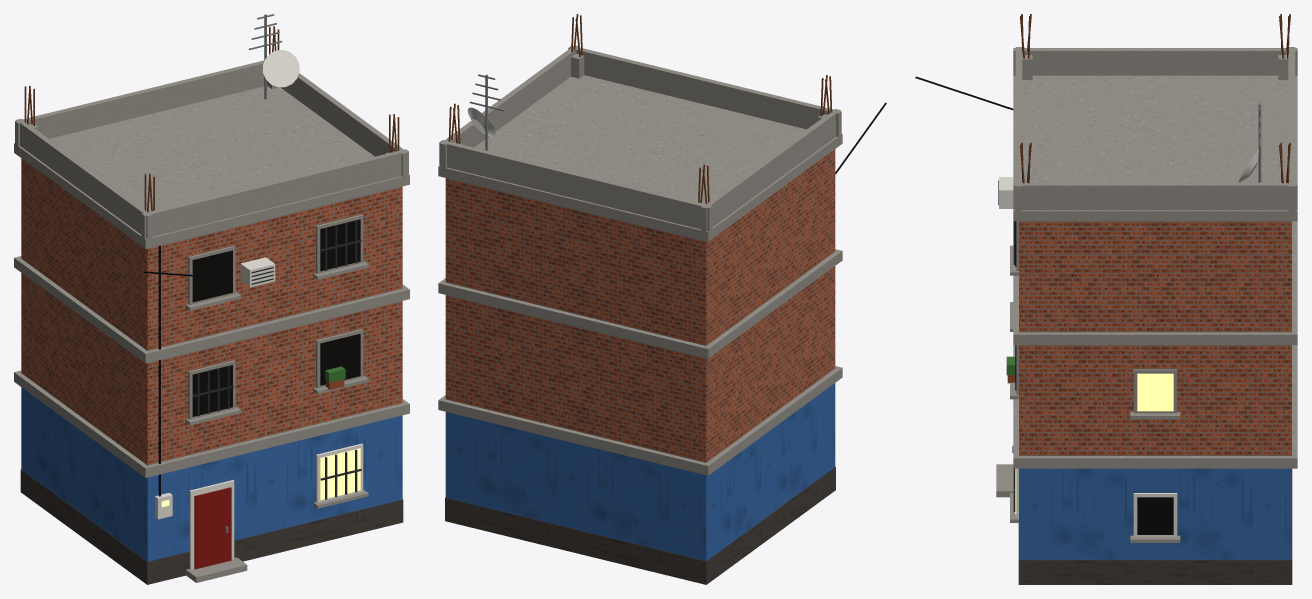
File: favela-azul.glb
The picture shows the model from 3 angles, left to right: view 1: azimuth 30°, elevation 25°; view 2: azimuth 150°, elevation 25°; view 3: azimuth 270°, elevation 25°; orthographic projection. The views are drawn at different scales.
Visible parts, largest first — view 1: azul_piso_1, azul_piso_2, azul_losa_2, azul_piso_0, azul_zocalo, azul_pretil_0, azul_pretil_1, azul_losa_1, azul_losa_0, azul_pretil_l_1, azul_pretil_l_0, azul_puerta_hoja (+18 smaller); view 2: azul_piso_1, azul_piso_2, azul_piso_0, azul_losa_2, azul_zocalo, azul_pretil_1, azul_pretil_0, azul_losa_0, azul_losa_1, azul_pretil_l_1, azul_pretil_l_0; view 3: azul_losa_2, azul_piso_2, azul_piso_1, azul_piso_0, azul_pretil_l_0, azul_pretil_l_1, azul_zocalo, azul_losa_0, azul_losa_1, azul_ventana_lat_1_hueco, azul_ventana_lat_0_hueco, azul_pretil_0 (+4 smaller).
Part boxes in pixels (x1,y1,x2,y2): azul_piso_1: (21, 273, 402, 465); azul_piso_2: (21, 158, 402, 350); azul_losa_2: (14, 86, 409, 248); azul_piso_0: (21, 387, 402, 561); azul_zocalo: (20, 469, 403, 584); azul_pretil_0: (141, 149, 408, 238); azul_pretil_1: (15, 60, 264, 146); azul_losa_1: (14, 256, 409, 363); azul_losa_0: (14, 370, 409, 477); azul_pretil_l_1: (16, 118, 152, 238); azul_pretil_l_0: (281, 73, 407, 176); azul_puerta_hoja: (194, 487, 231, 569); azul_piso_1: (445, 266, 835, 462); azul_piso_2: (445, 149, 835, 345); azul_piso_0: (445, 383, 835, 561); azul_losa_2: (438, 75, 842, 241); azul_zocalo: (445, 467, 835, 584); azul_pretil_1: (439, 140, 712, 231); azul_pretil_0: (568, 46, 841, 136); azul_losa_0: (438, 366, 842, 475); azul_losa_1: (438, 249, 842, 358); azul_pretil_l_1: (700, 109, 840, 231); azul_pretil_l_0: (440, 45, 577, 168); azul_losa_2: (1013, 75, 1297, 221); azul_piso_2: (1019, 221, 1291, 332); azul_piso_1: (1019, 345, 1291, 455); azul_piso_0: (1019, 468, 1291, 559); azul_pretil_l_0: (1013, 182, 1297, 210); azul_pretil_l_1: (1013, 48, 1297, 75); azul_zocalo: (1018, 469, 1292, 584); azul_losa_0: (1013, 345, 1297, 468); azul_losa_1: (1013, 221, 1297, 344); azul_ventana_lat_1_hueco: (1137, 373, 1173, 411); azul_ventana_lat_0_hueco: (1137, 497, 1173, 534); azul_pretil_0: (1015, 47, 1022, 211).
Size of the model in its own units: 7.33 by 11.33 by 8.4.
15 materials, 5 textured.
